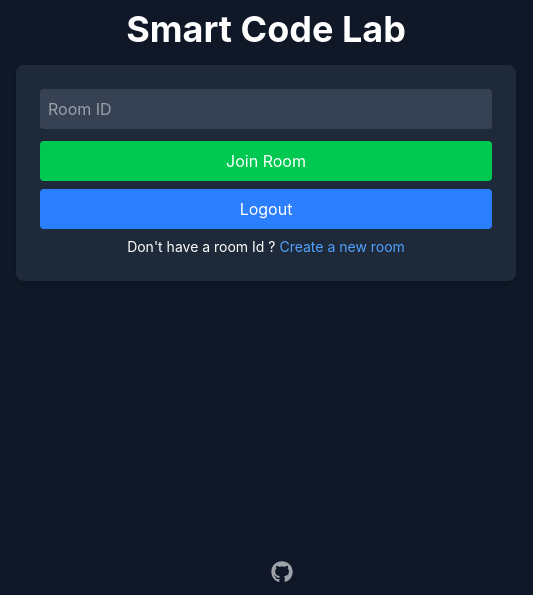
Test case: Home › generates a room ID when Create a new room is clicked
Click the text "Create a new room". click: (342, 246)
box: [279,238,405,255]
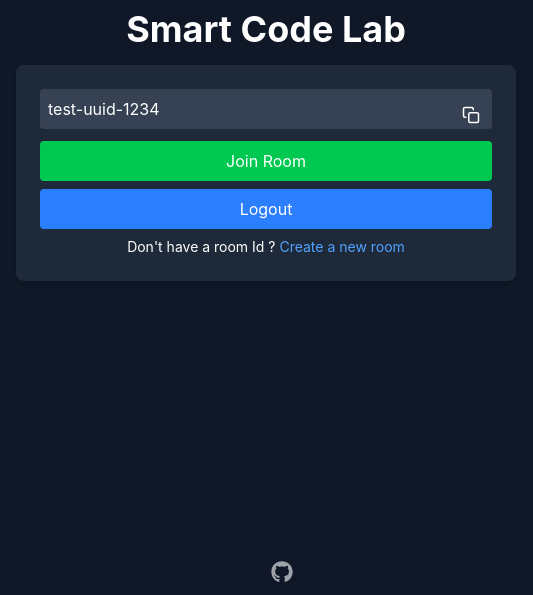
expect the field with placeholder "Room ID" holds "test-uuid-1234": met, box [40,89,492,129]
